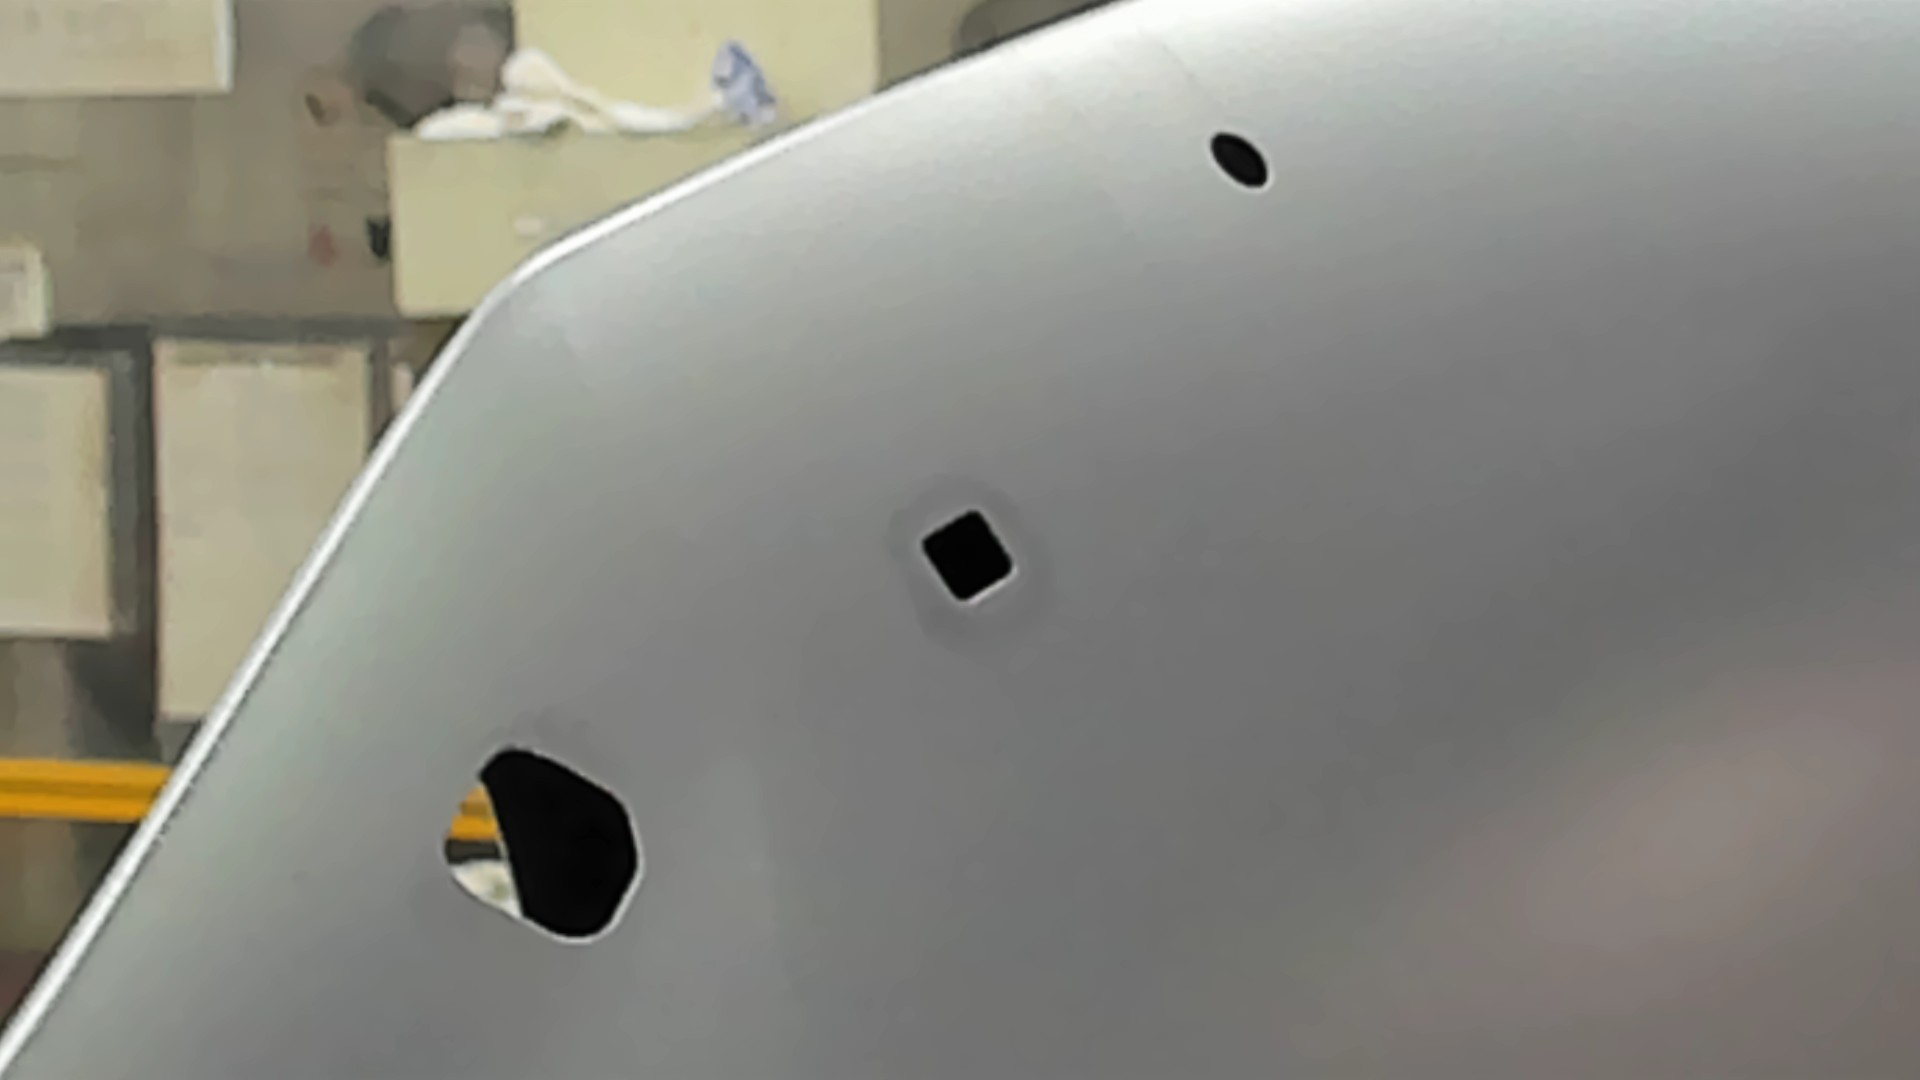chico: (1207, 124, 1275, 194)
grande: (436, 742, 647, 951)
mediano: (918, 506, 1018, 608)
